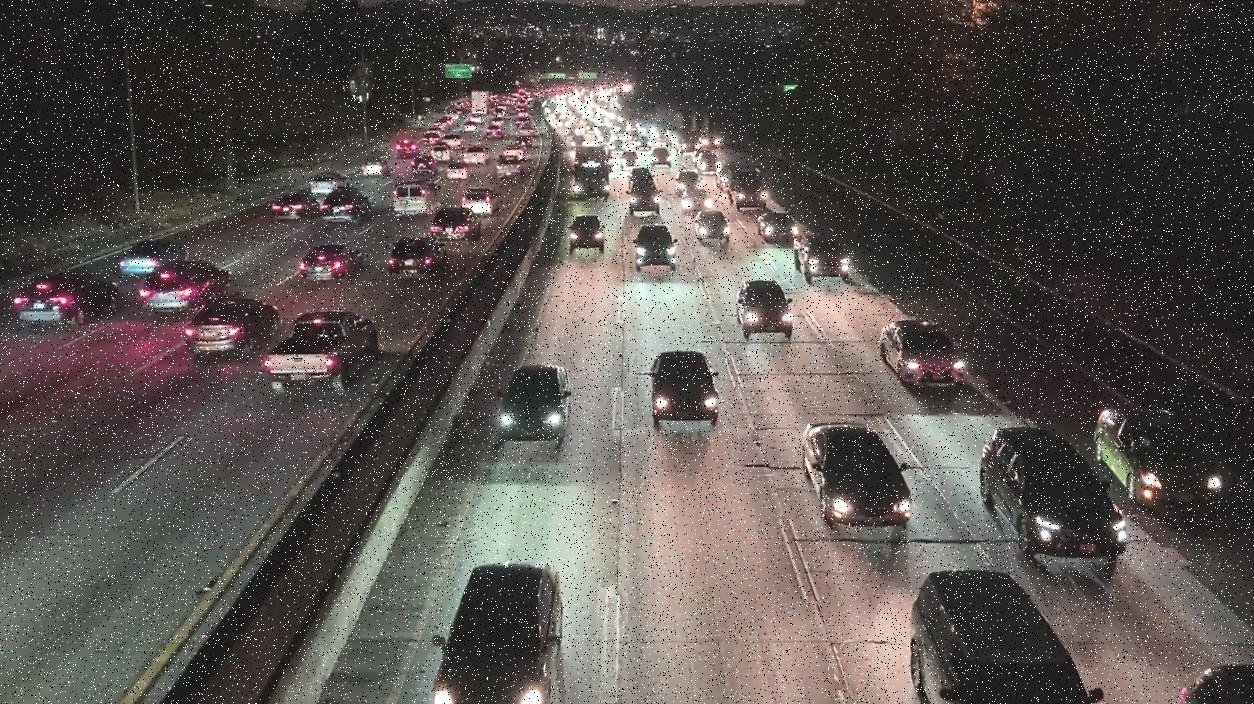bus: (570, 145, 610, 203)
car: (908, 562, 1098, 704), (970, 426, 1127, 568), (1088, 397, 1230, 510), (800, 421, 909, 536), (260, 307, 380, 396), (494, 358, 577, 447), (643, 342, 723, 432), (182, 295, 280, 361), (25, 267, 118, 330), (138, 262, 230, 311), (737, 281, 795, 340), (115, 236, 188, 277), (790, 233, 852, 281), (630, 220, 678, 276), (388, 236, 447, 278), (295, 244, 362, 279), (321, 185, 374, 224), (425, 206, 479, 243), (393, 179, 442, 218), (724, 166, 764, 213), (691, 209, 731, 251), (566, 212, 605, 254), (270, 191, 321, 222), (759, 212, 801, 245), (623, 181, 663, 214), (461, 185, 503, 216), (311, 171, 350, 198), (674, 189, 714, 214), (494, 153, 526, 181), (675, 169, 706, 194), (359, 157, 393, 179), (443, 160, 475, 181), (411, 155, 438, 175), (431, 143, 458, 163), (463, 146, 490, 163), (395, 139, 419, 158)
truck: (416, 556, 583, 704), (873, 316, 970, 394)
